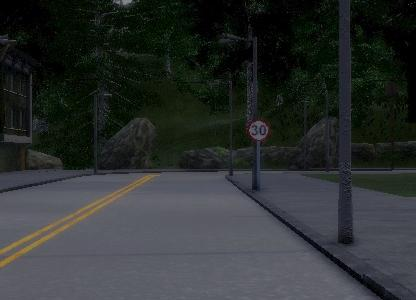Speed_30: (247, 117, 270, 142)
